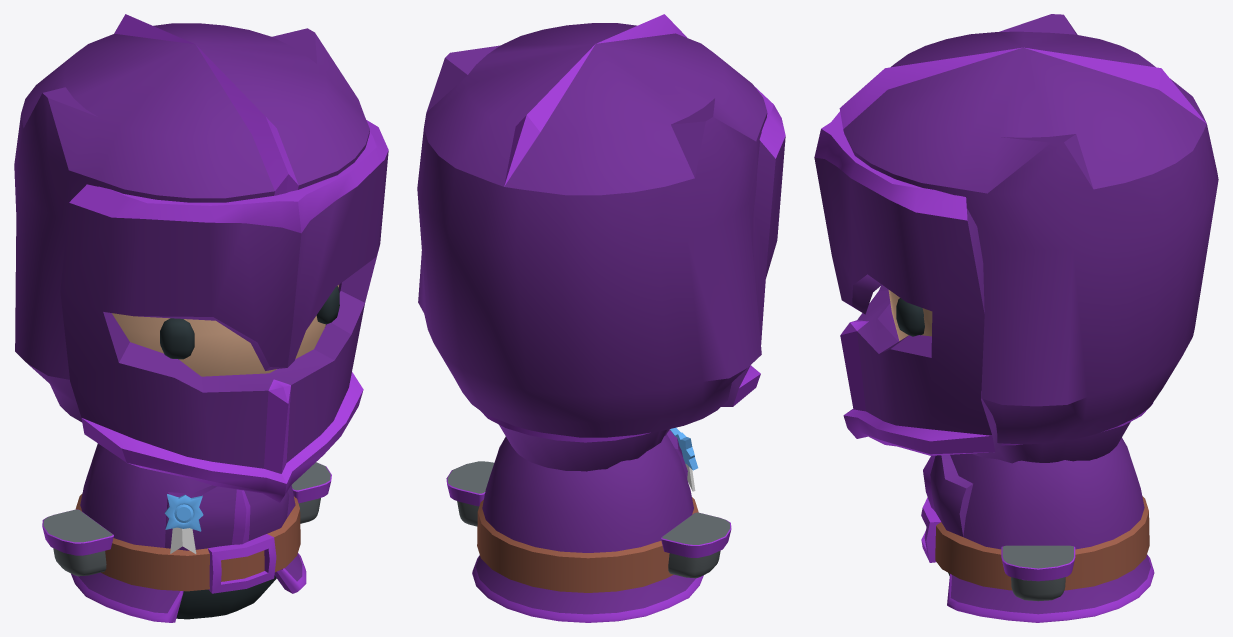
Rendered from character_knight_fists.fbx.
3 views of the same model, side by side, from view 1: azimuth 30°, elevation 25°; view 2: azimuth 150°, elevation 25°; view 3: azimuth 270°, elevation 25° (orthographic).
Visible parts, largest first — view 1: character_knightHelmetVisor, character_knightHelmet, character_knightBody_fists, character_knightHead, character_knightArmRight, character_knightArmLeft; view 2: character_knightHelmet, character_knightBody_fists, character_knightHelmetVisor, character_knightArmRight, character_knightArmLeft; view 3: character_knightHelmet, character_knightHelmetVisor, character_knightBody_fists, character_knightArmLeft, character_knightHead.
Boxes of the visible parts, x1,y1,x2,y2 form: character_knightHelmetVisor: (60,120,388,502); character_knightHelmet: (14,14,369,422); character_knightBody_fists: (71,443,306,622); character_knightHead: (112,285,339,376); character_knightArmRight: (42,509,113,576); character_knightArmLeft: (291,462,331,523); character_knightHelmet: (417,14,767,437); character_knightBody_fists: (472,411,703,622); character_knightHelmetVisor: (721,87,785,406); character_knightArmRight: (661,512,731,578); character_knightArmLeft: (446,461,494,526); character_knightHelmet: (839,14,1218,444); character_knightHelmetVisor: (814,111,1002,455); character_knightBody_fists: (921,403,1154,622); character_knightArmLeft: (1001,545,1075,601); character_knightHead: (888,290,932,340).
Size of the model in its own units: 1.21 by 1.97 by 1.33.
